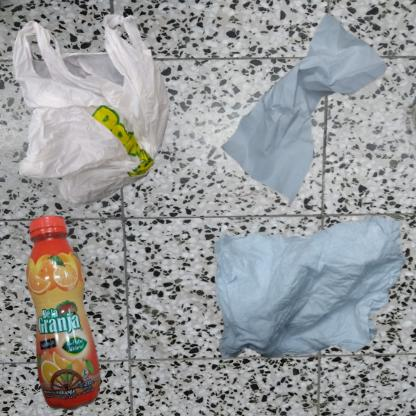bolsa: (10, 10, 176, 213)
botella: (10, 213, 123, 416)
papel: (213, 10, 395, 213), (213, 213, 409, 361)
